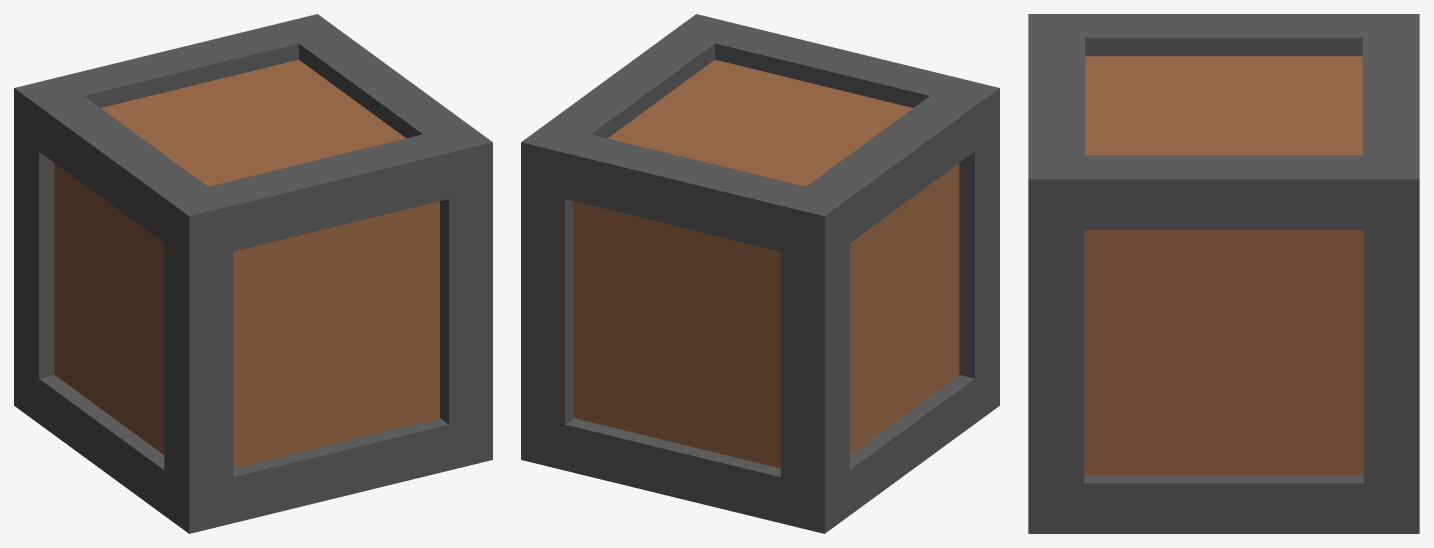
3 renders of one model, left to right at view 1: azimuth 30°, elevation 25°; view 2: azimuth 150°, elevation 25°; view 3: azimuth 270°, elevation 25°, orthographic. The views are drawn at different scales.
Parts seen in each view (by area): view 1: Cube; view 2: Cube; view 3: Cube.
Part boxes in pixels (x1,y1,x2,y2): Cube: (14,14,492,533); Cube: (521,14,999,533); Cube: (1028,14,1419,533).
Size of the model in its own units: 200 by 200 by 200.
